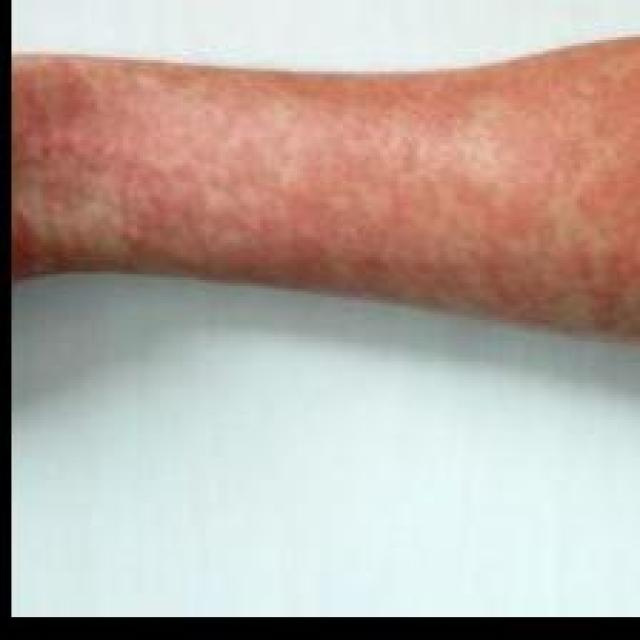others: (6, 60, 640, 362)
